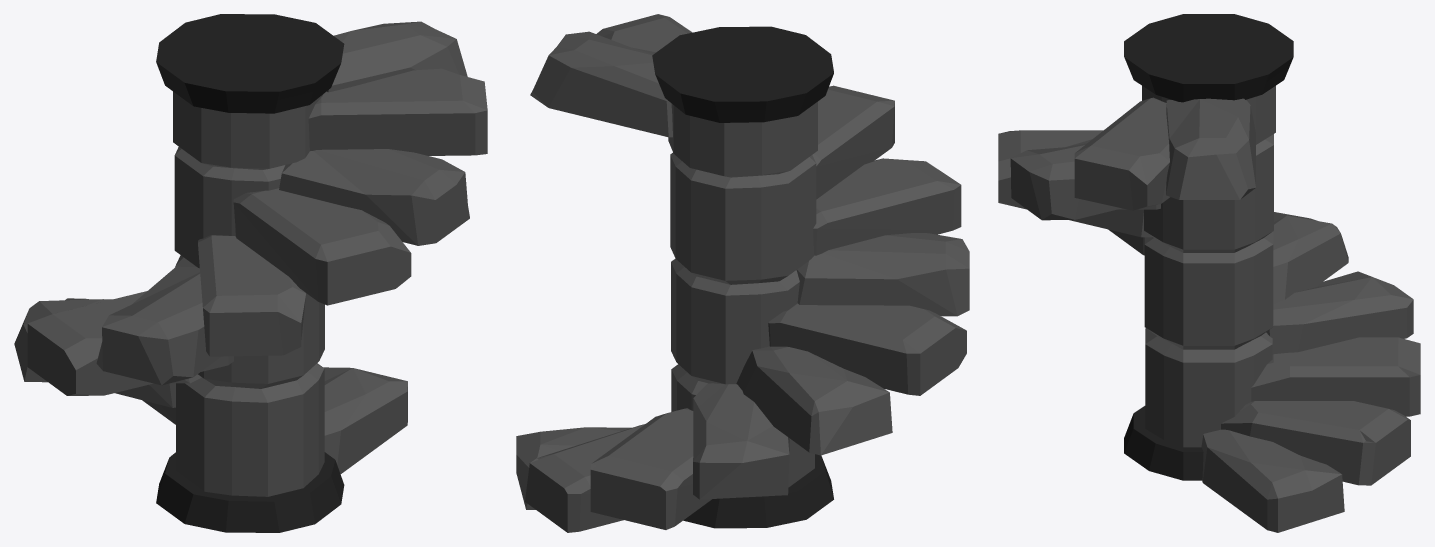
Rendered from Staircase_stone_big_C.fbx.
3 views of the same model, side by side, from view 1: azimuth 30°, elevation 25°; view 2: azimuth 150°, elevation 25°; view 3: azimuth 270°, elevation 25° (orthographic). The views are drawn at different scales.
Visible parts, largest first — view 1: Staircase_stone_big_C; view 2: Staircase_stone_big_C; view 3: Staircase_stone_big_C.
Part boxes in pixels (<box>): Staircase_stone_big_C: <box>14,14,487,532</box>; Staircase_stone_big_C: <box>516,14,969,532</box>; Staircase_stone_big_C: <box>998,14,1420,532</box>.
Bounding box in the file's own units: 289 × 301 × 290.
